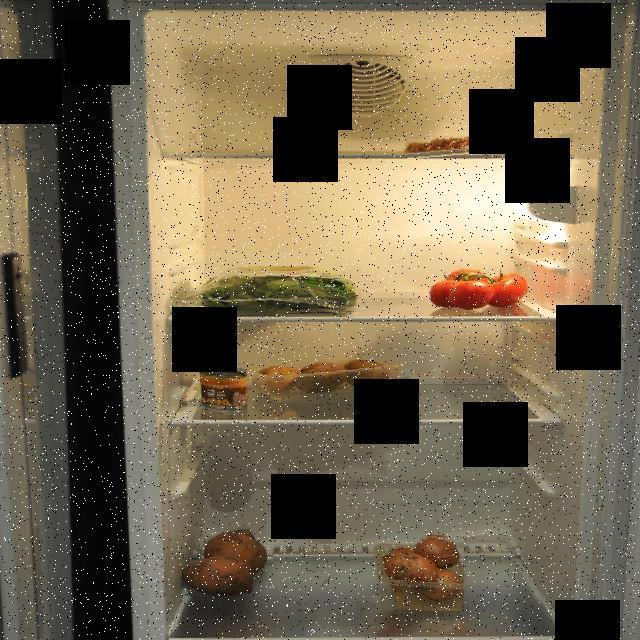corn: (197, 365, 252, 413)
onion: (376, 533, 464, 611)
potato: (258, 360, 411, 402)
shrimp: (402, 136, 488, 160)
spinach: (182, 266, 362, 316)
sweet_potato: (182, 524, 274, 596)
tomato: (426, 266, 544, 316)
